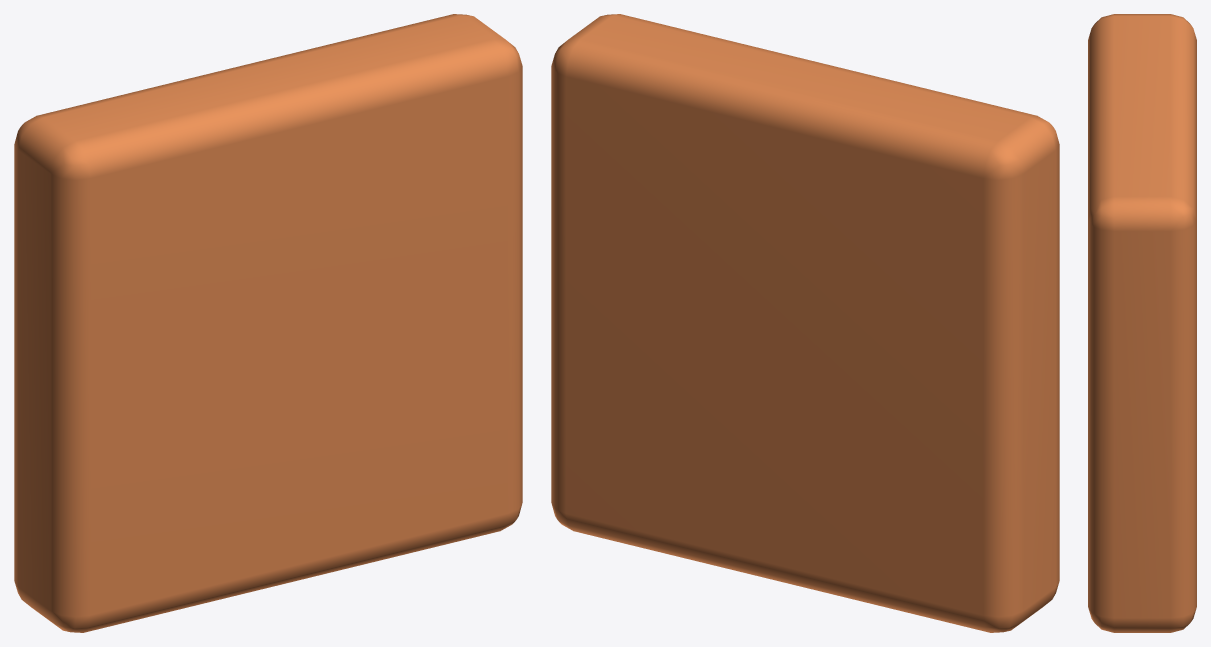
File: shape-square-orange.glb
3 renders of one model, left to right at view 1: azimuth 30°, elevation 25°; view 2: azimuth 150°, elevation 25°; view 3: azimuth 270°, elevation 25°, orthographic. The views are drawn at different scales.
Parts seen in each view (by area): view 1: solid square; view 2: solid square; view 3: solid square.
Part boxes in pixels (left/top/right/bottom): solid square: left=14, top=14, right=522, bottom=632; solid square: left=551, top=14, right=1059, bottom=632; solid square: left=1088, top=14, right=1196, bottom=632.
Size of the model in its own units: 1.1 by 1.1 by 0.25.
